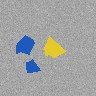hold: (16, 36, 34, 54), (27, 60, 40, 73)
volume: (44, 37, 65, 58)
